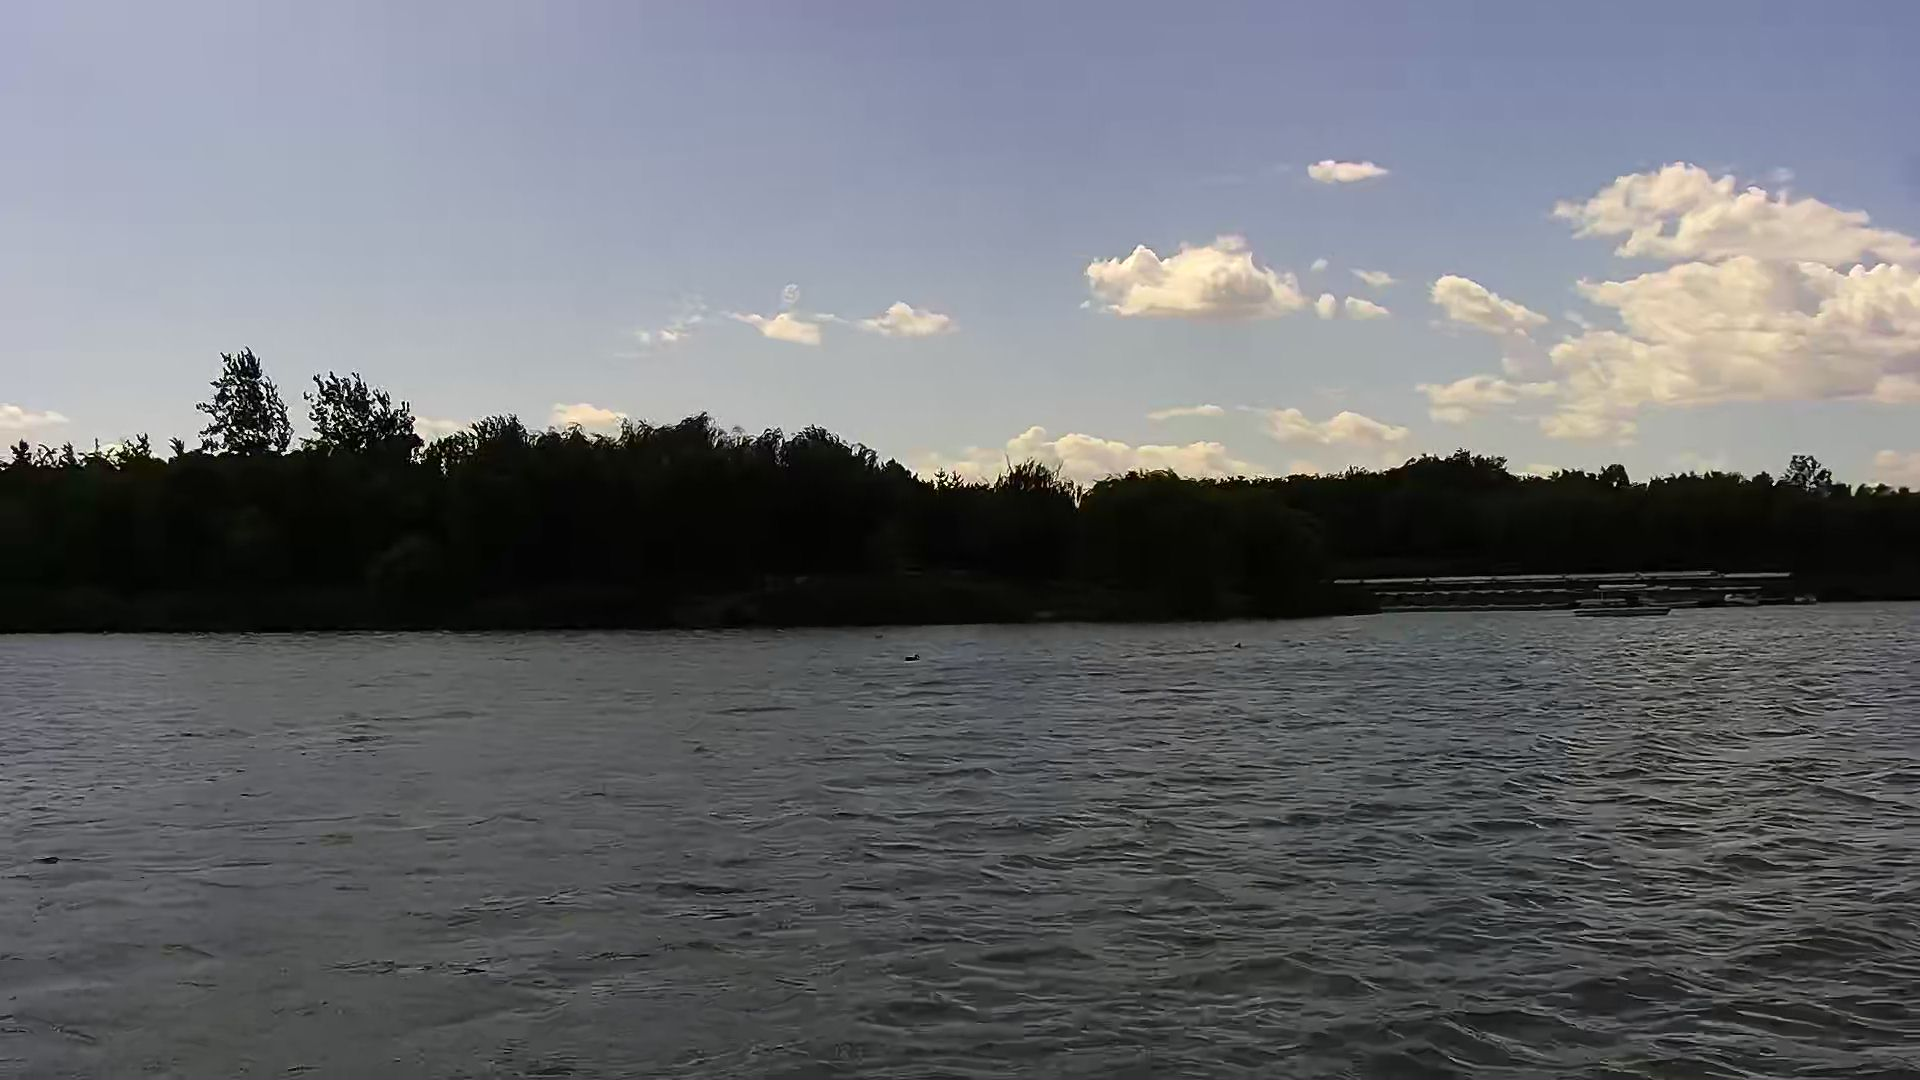boat: (1567, 582, 1673, 616)
harbor: (1327, 567, 1815, 616)
